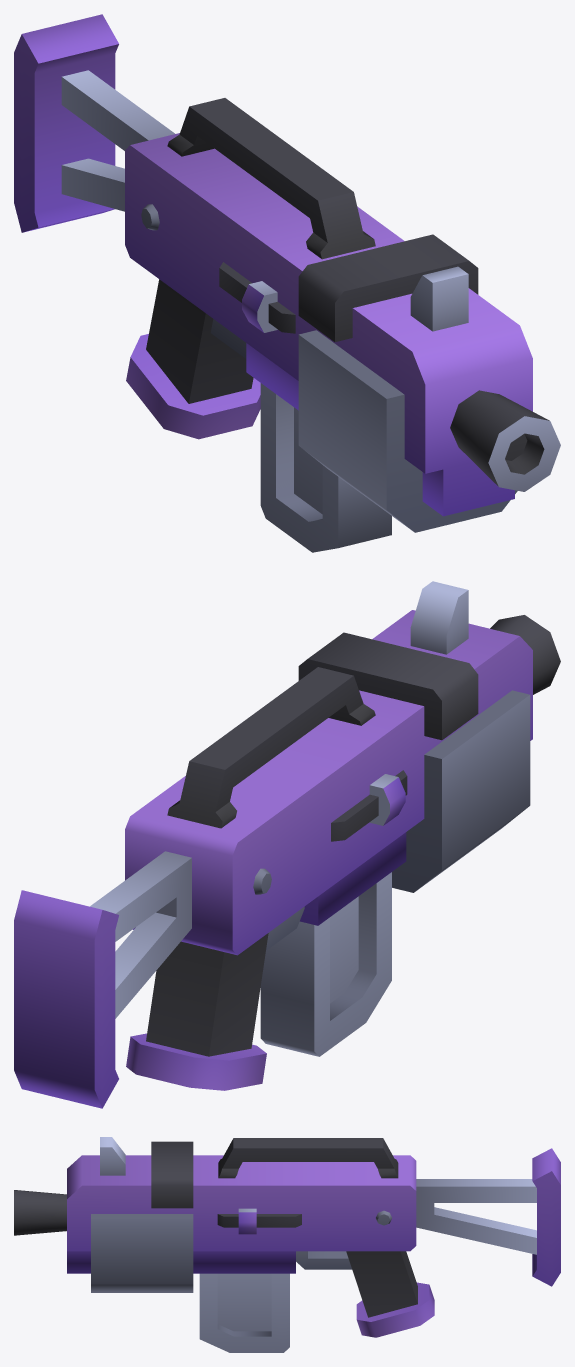
The model's file is weapon_rifle.glb.
3 views of the same model, one above another, from view 1: azimuth 30°, elevation 25°; view 2: azimuth 150°, elevation 25°; view 3: azimuth 270°, elevation 25° (orthographic). The views are drawn at different scales.
Visible parts, largest first — view 1: blaster-d, magazine; view 2: blaster-d, magazine; view 3: blaster-d, magazine.
Part boxes in pixels (left/top/right/bottom): blaster-d: left=14, top=14, right=560, bottom=532; magazine: left=260, top=383, right=391, bottom=552; blaster-d: left=14, top=581, right=560, bottom=1108; magazine: left=260, top=872, right=391, bottom=1056; blaster-d: left=14, top=1137, right=560, bottom=1337; magazine: left=199, top=1273, right=289, bottom=1352.
Size of the model in its own units: 7.27 by 16.39 by 40.
